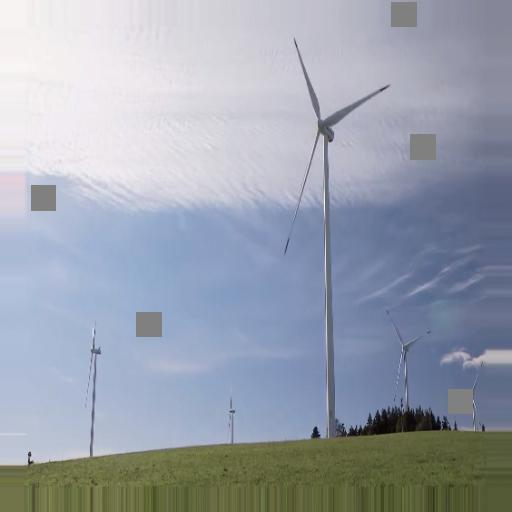wind turbine: (280, 36, 392, 435), (389, 309, 433, 415), (454, 363, 484, 431)
